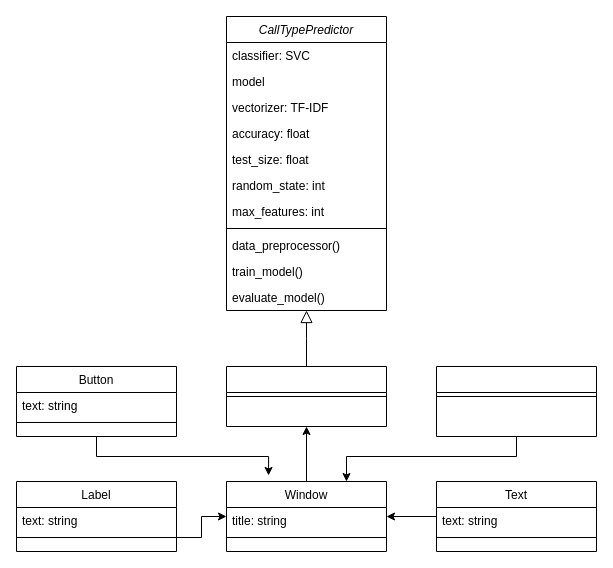
Some shapes in this 613 by 568 pixel diagram are drawn without their labels. Each missing label, with the centre of its shape:
Frame: the point at 516,401
TKinter: the point at 306,396
